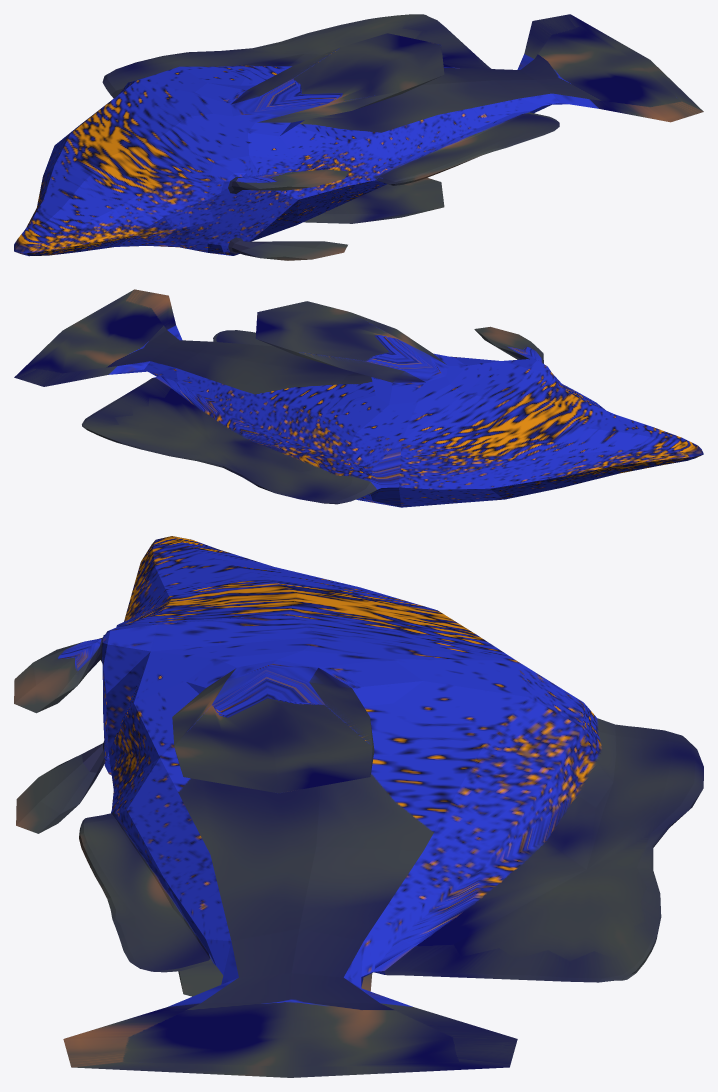
File: Fish.fbx
3 renders of one model, top to bottom at view 1: azimuth 30°, elevation 25°; view 2: azimuth 150°, elevation 25°; view 3: azimuth 270°, elevation 25°, orthographic. The views are drawn at different scales.
Visible parts, largest first — view 1: Fish; view 2: Fish; view 3: Fish.
Part boxes in pixels (x1,y1,x2,y2): Fish: [14, 14, 703, 260]; Fish: [14, 289, 703, 507]; Fish: [14, 536, 703, 1077].
Bounding box in the file's own units: 525 × 102 × 284.
